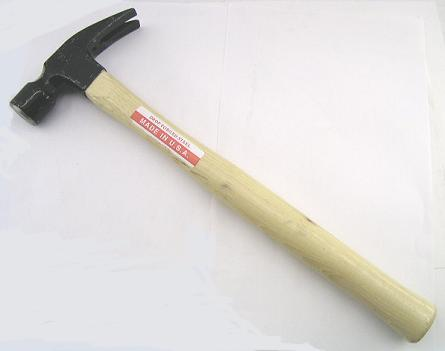hammer: (8, 6, 438, 343)
